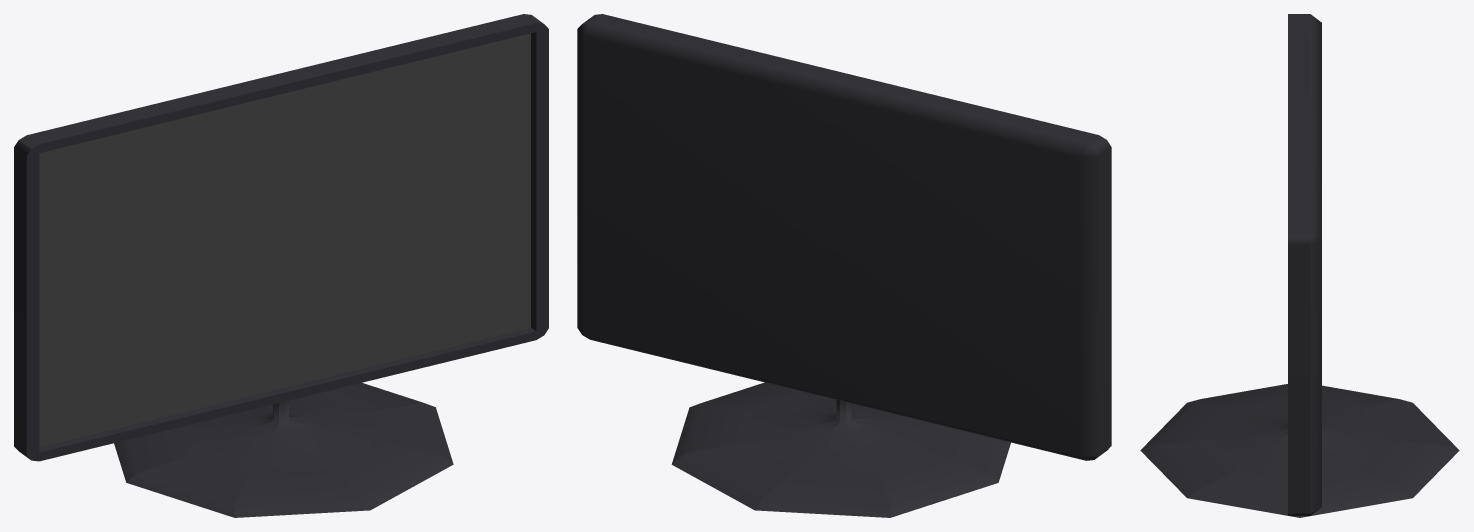
Rendered from loan_monitor_black.fbx.
3 views of the same model, side by side, from view 1: azimuth 30°, elevation 25°; view 2: azimuth 150°, elevation 25°; view 3: azimuth 270°, elevation 25° (orthographic). The views are drawn at different scales.
Visible parts, largest first — view 1: loan_monitor_black; view 2: loan_monitor_black; view 3: loan_monitor_black.
Part boxes in pixels (left/top/right/bottom): loan_monitor_black: left=14, top=14, right=548, bottom=517; loan_monitor_black: left=577, top=14, right=1111, bottom=517; loan_monitor_black: left=1140, top=14, right=1459, bottom=517.
Bounding box in the file's own units: 0.00447 × 0.00299 × 0.00265.
1 material, 1 textured.
